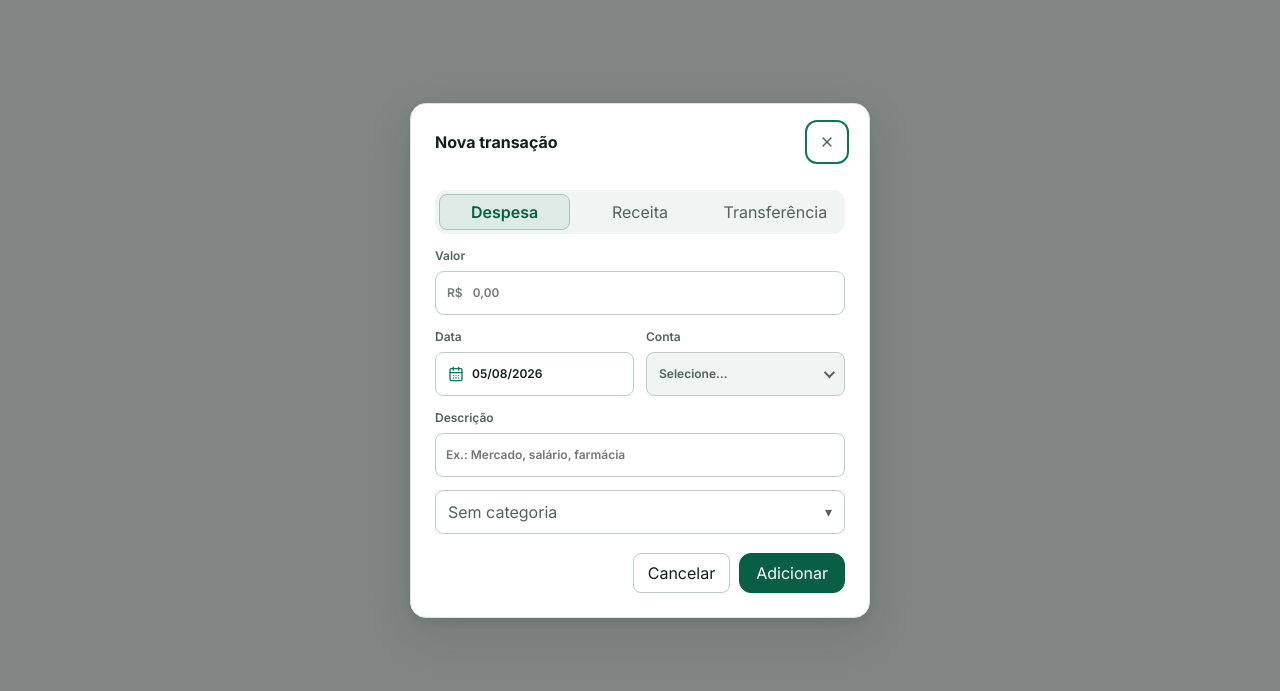
Test: TransactionForm parcelado › shows backend installment errors in the standard form error flow
This screenshot has width=1280, height=691.
Type "10000" into the field with placeholder "0,00".
click(653, 292); type("10000")  # box [463,272,844,314]
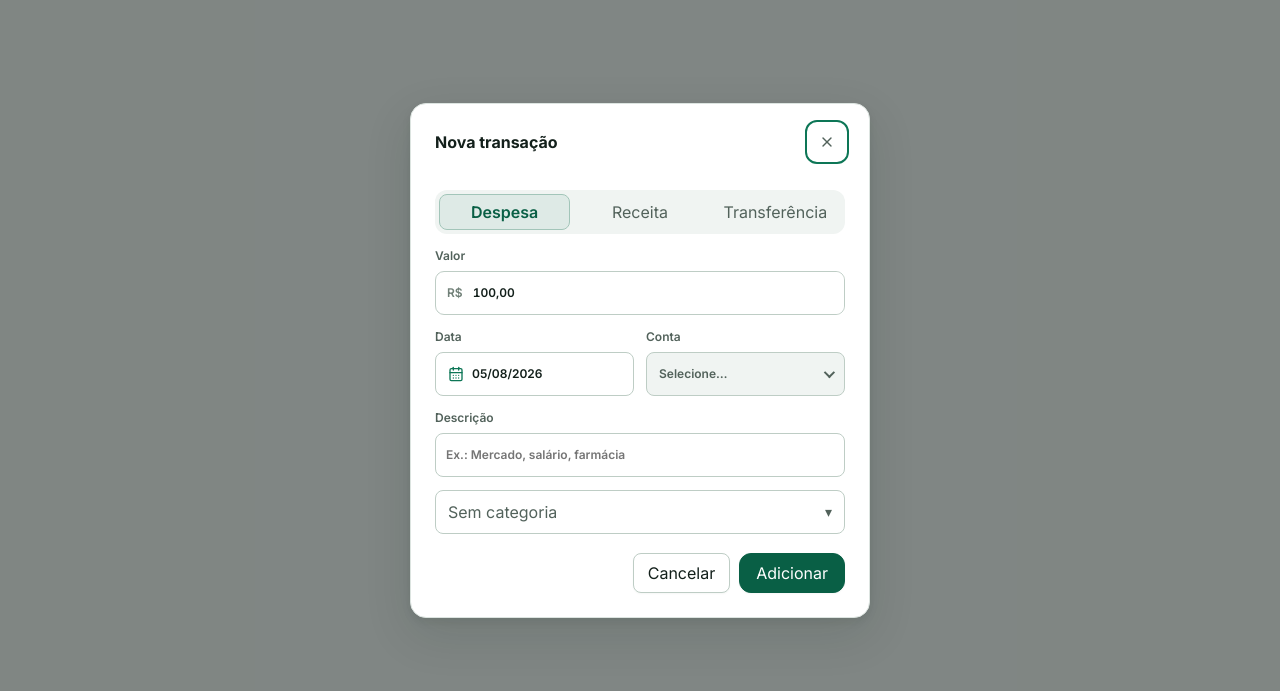
Type "Notebook" into the field with placeholder "Ex.: Mercado, salário, farmácia".
click(640, 454); type("Notebook")  # box [435,432,845,476]
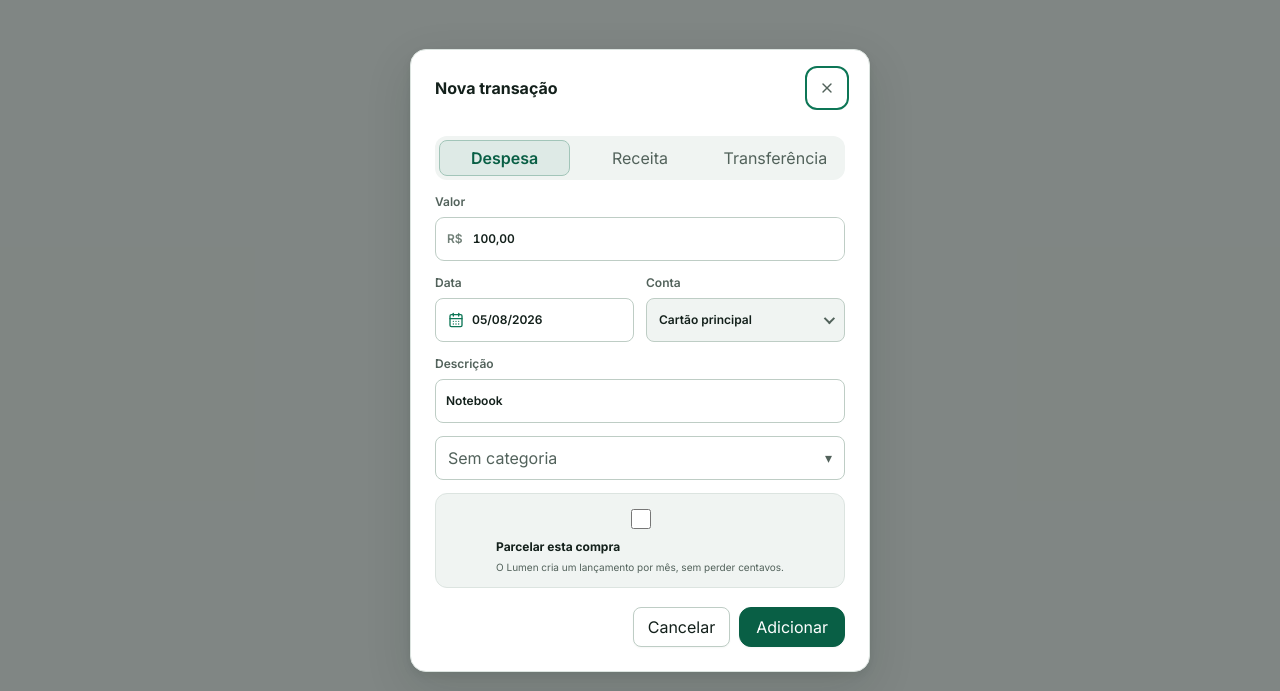
Click the checkbox labelled "Parcelar esta compra".
click(640, 518)  # box [630,508,650,528]
(page scrolled)
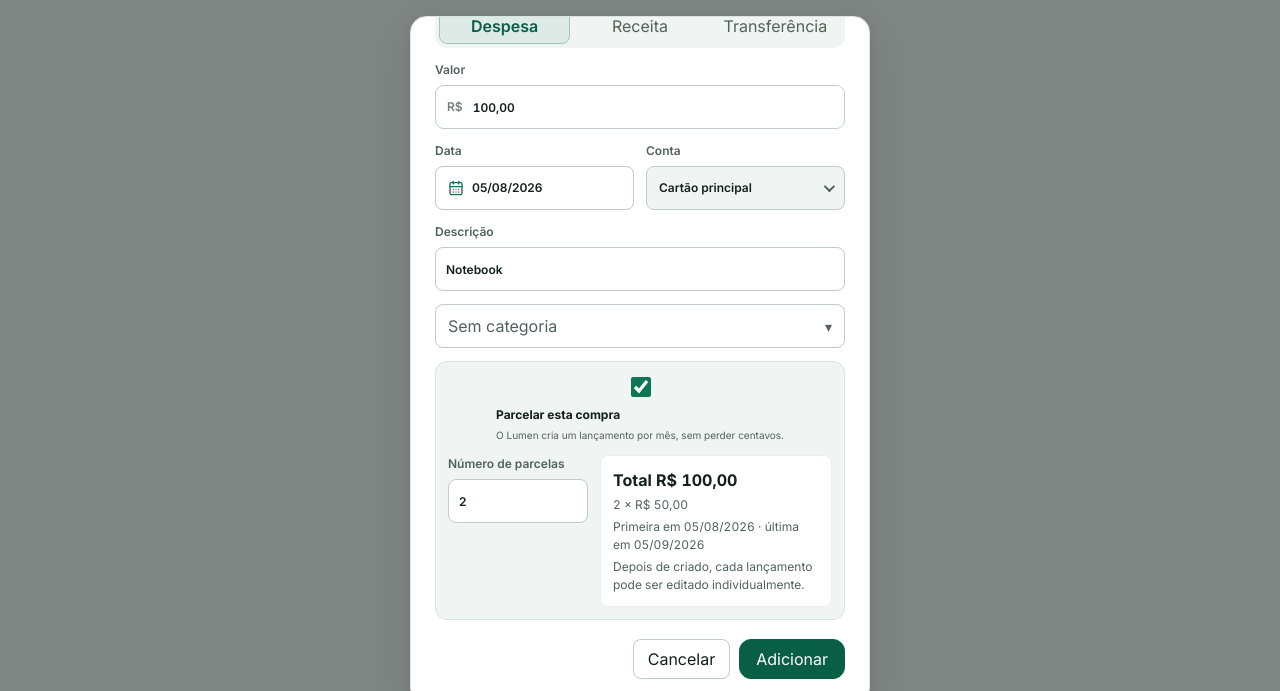
Click the button "Adicionar".
click(792, 659)  # box [739,639,845,679]
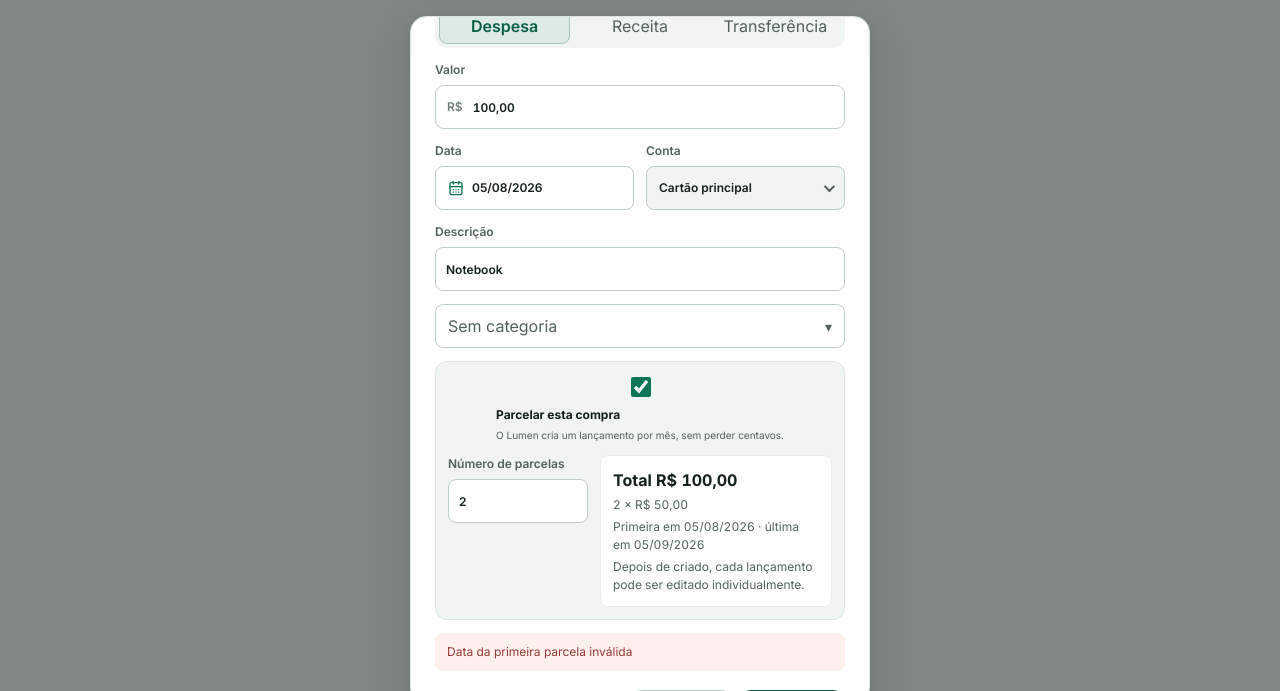
Result: the text "Data da primeira parcela inválida" is shown at [435,633,845,671]
